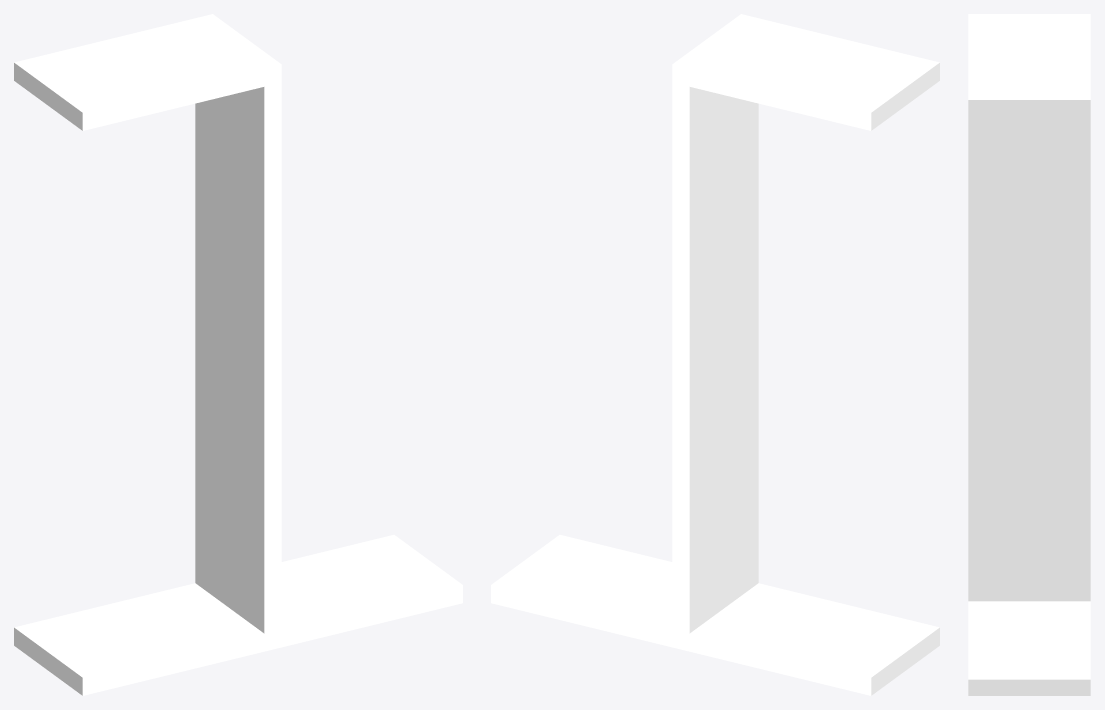
Rendered from b03f6860-f1dc-47ae-bcbb-4d93d4203a4d.glb.
3 renders of one model, left to right at view 1: azimuth 30°, elevation 25°; view 2: azimuth 150°, elevation 25°; view 3: azimuth 270°, elevation 25°, orthographic. The views are drawn at different scales.
Parts seen in each view (by area): view 1: 1_AlphaProta_White; view 2: 1_AlphaProta_White; view 3: 1_AlphaProta_White.
Boxes of the visible parts, box(x1,y1,x2,y2) form: 1_AlphaProta_White: box(14, 14, 462, 695); 1_AlphaProta_White: box(491, 14, 939, 695); 1_AlphaProta_White: box(968, 14, 1090, 695).
Size of what is drawn, in the model's own units: 0.1436 by 0.2105 by 0.045.
Materials: 2 (2 with a texture image).
